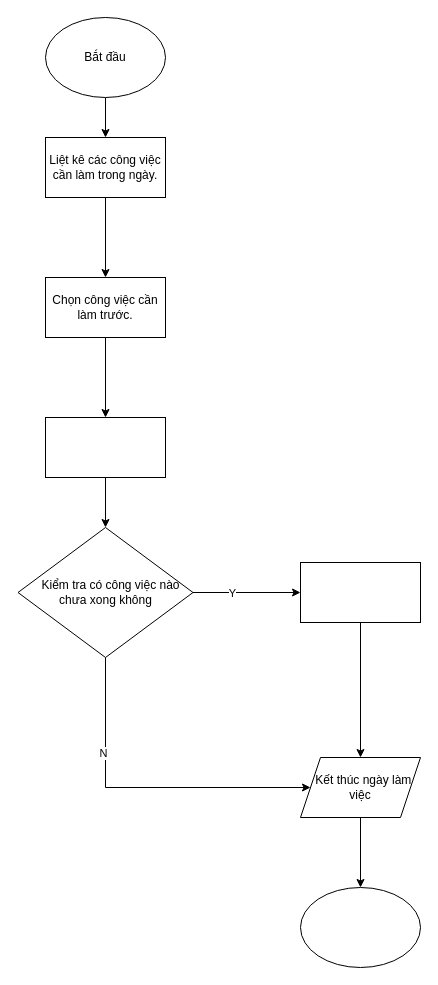
The diagram is 438 pixels wide and 985 high, and some of its shapes have lost their labels. Here are the shapes that lost their labels. From the top down, the centre of each, then its label:
point 105,447: Hoàn thành công việc và đánh dấu là đã xong.
point 360,592: Làm tiếp công việc
point 360,927: kết thúc
